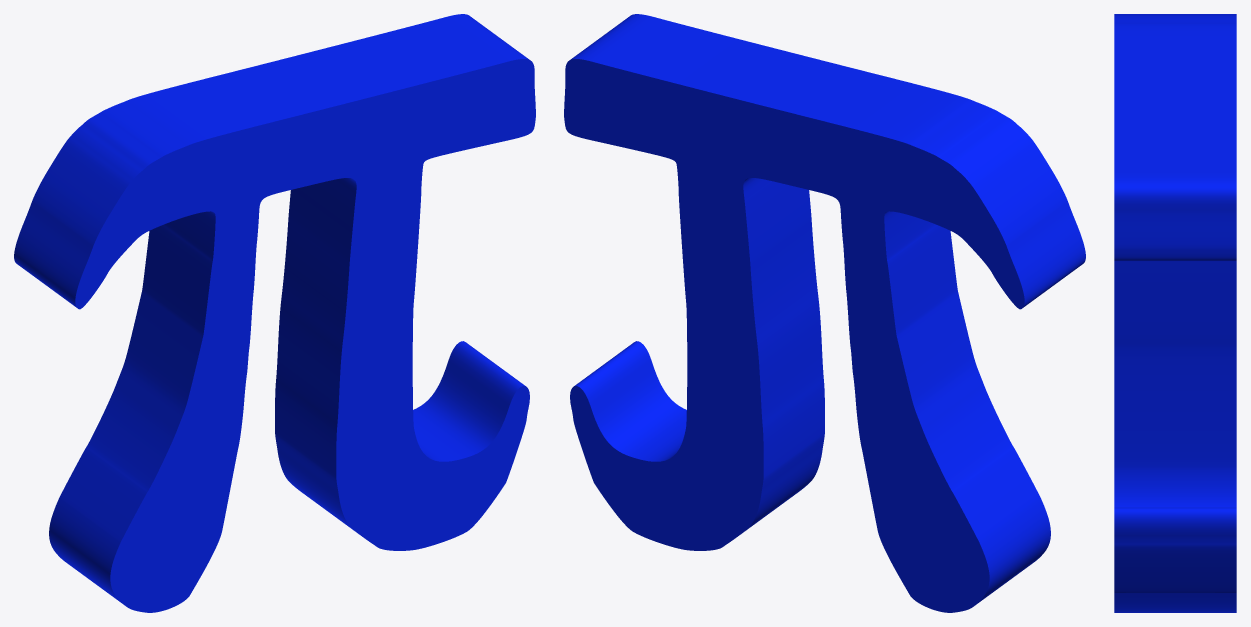
3 renders of one model, left to right at view 1: azimuth 30°, elevation 25°; view 2: azimuth 150°, elevation 25°; view 3: azimuth 270°, elevation 25°, orthographic.
Parts seen in each view (by area): view 1: path142; view 2: path142; view 3: path142.
Part boxes in pixels (x1,y1,x2,y2): path142: [14, 14, 535, 612]; path142: [564, 14, 1085, 612]; path142: [1114, 14, 1236, 612].
Bounding box in the file's own units: 0.1736 × 0.1677 × 0.04.
